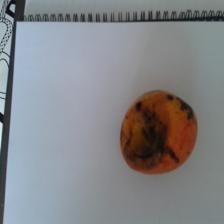Mango Rotten: (112, 78, 202, 180)
